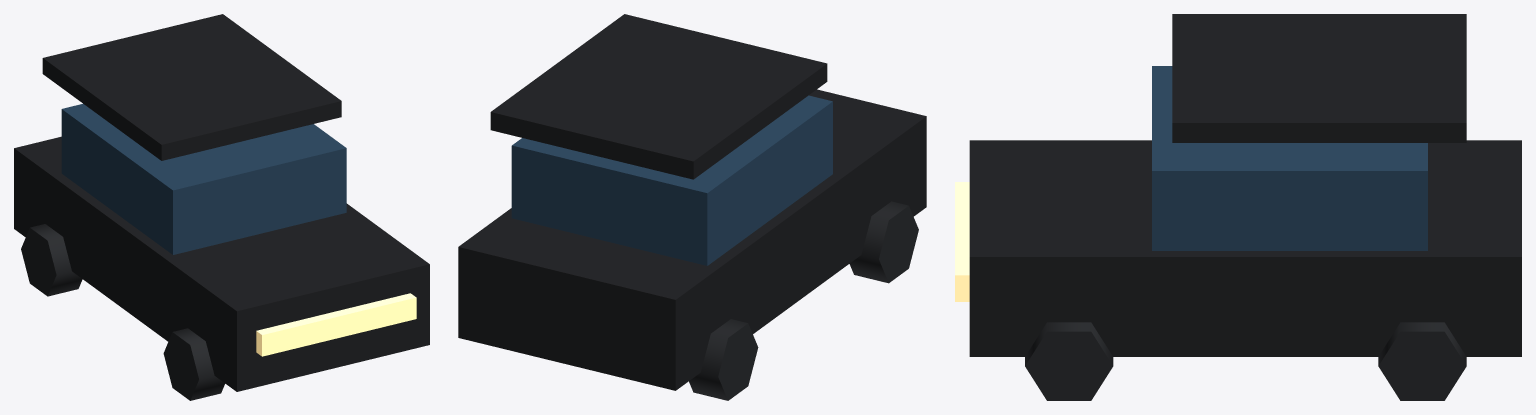
The model's file is vehicle_vintage_car.glb.
3 renders of one model, left to right at view 1: azimuth 30°, elevation 25°; view 2: azimuth 150°, elevation 25°; view 3: azimuth 270°, elevation 25°, orthographic. The views are drawn at different scales.
Visible parts, largest first — view 1: vehicle_vintage_car; view 2: vehicle_vintage_car; view 3: vehicle_vintage_car.
Part boxes in pixels (<box>): vehicle_vintage_car: <box>14,14,429,400</box>; vehicle_vintage_car: <box>458,14,926,400</box>; vehicle_vintage_car: <box>955,14,1521,400</box>.
Bounding box in the file's own units: 0.087 × 0.0794 × 0.154.
